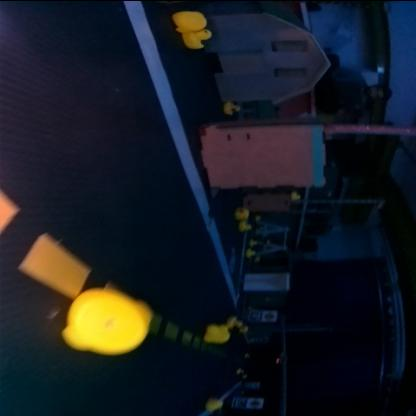Duckie: (66, 286, 154, 352), (173, 10, 207, 31), (182, 30, 212, 48), (204, 323, 230, 340), (206, 398, 224, 410), (225, 100, 241, 113), (236, 206, 250, 218), (228, 316, 244, 326), (240, 219, 251, 229), (292, 190, 300, 198), (248, 248, 256, 254), (250, 239, 258, 245), (241, 325, 248, 331)
